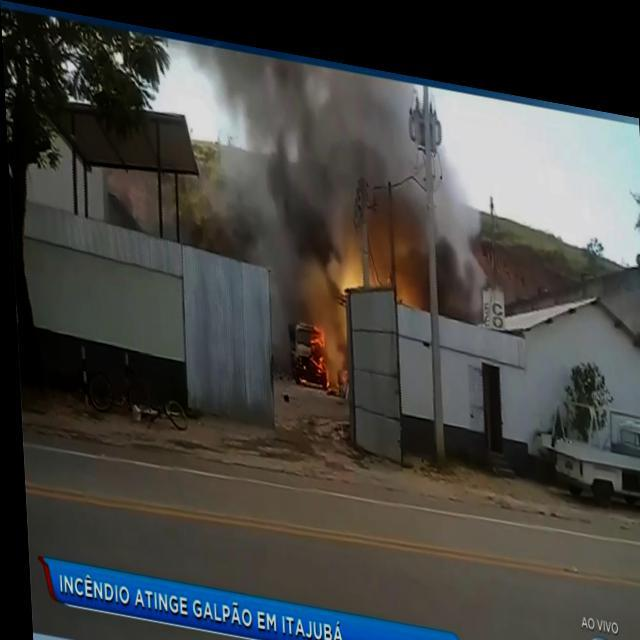Fire: (304, 312, 330, 376), (339, 246, 359, 284)
